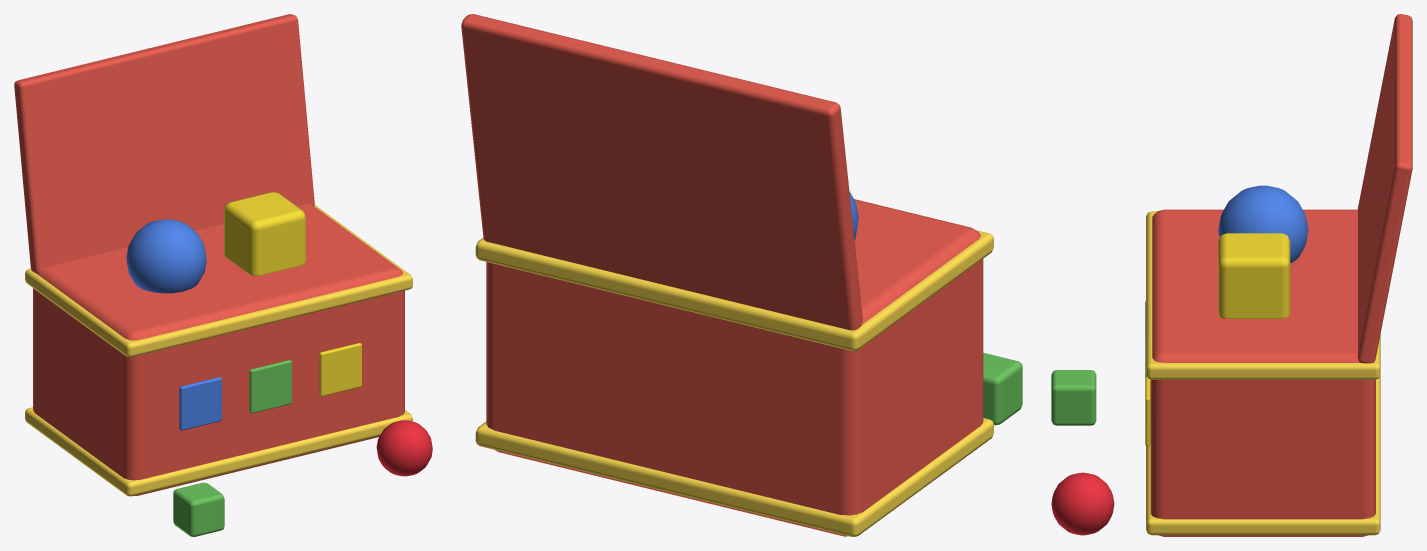
Rendered from toy_box.glb.
The picture shows the model from 3 angles, left to right: view 1: azimuth 30°, elevation 25°; view 2: azimuth 150°, elevation 25°; view 3: azimuth 270°, elevation 25°; orthographic projection. The views are drawn at different scales.
Parts seen in each view (by area): view 1: Cube, Cube.003, Cube.002, Cube.007, Cube.001, Sphere, Sphere.001, Cube.008, Cube.004, Cube.005, Cube.006; view 2: Cube, Cube.003, Cube.002, Cube.001, Cube.008; view 3: Cube, Cube.003, Cube.007, Cube.002, Cube.001, Sphere, Sphere.001, Cube.008.
Boxes of the visible parts, x1,y1,x2,y2 form: Cube: (33, 204, 404, 495); Cube.003: (14, 14, 314, 273); Cube.002: (25, 205, 412, 357); Cube.007: (224, 192, 305, 276); Cube.001: (25, 407, 412, 496); Sphere: (126, 219, 206, 293); Sphere.001: (376, 420, 432, 476); Cube.008: (173, 482, 224, 536); Cube.004: (179, 377, 221, 430); Cube.005: (249, 360, 291, 413); Cube.006: (319, 343, 361, 396); Cube: (486, 199, 983, 536); Cube.003: (461, 14, 862, 330); Cube.002: (475, 230, 993, 350); Cube.001: (475, 418, 993, 536); Cube.008: (983, 353, 1022, 425); Cube: (1150, 209, 1375, 536); Cube.003: (1357, 14, 1412, 363); Cube.007: (1218, 233, 1290, 318); Cube.002: (1146, 211, 1380, 379); Cube.001: (1146, 375, 1380, 535); Sphere: (1218, 185, 1308, 262); Sphere.001: (1051, 472, 1114, 535); Cube.008: (1051, 370, 1096, 425).
Bounding box in the file's own units: 0.82 × 0.9476 × 0.801.
